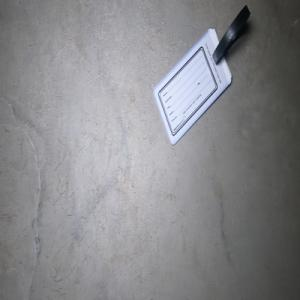LuggageTag: (150, 3, 251, 147)
